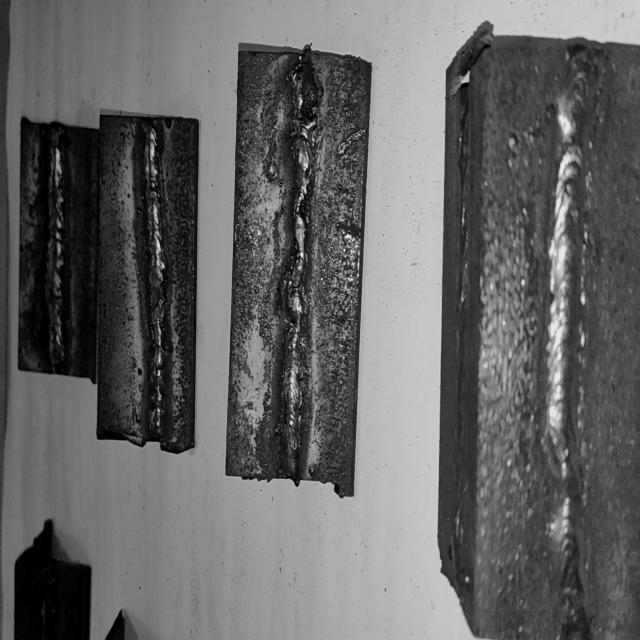Good Weld: (546, 57, 598, 638), (277, 51, 319, 474), (143, 124, 167, 436), (46, 140, 68, 372)
